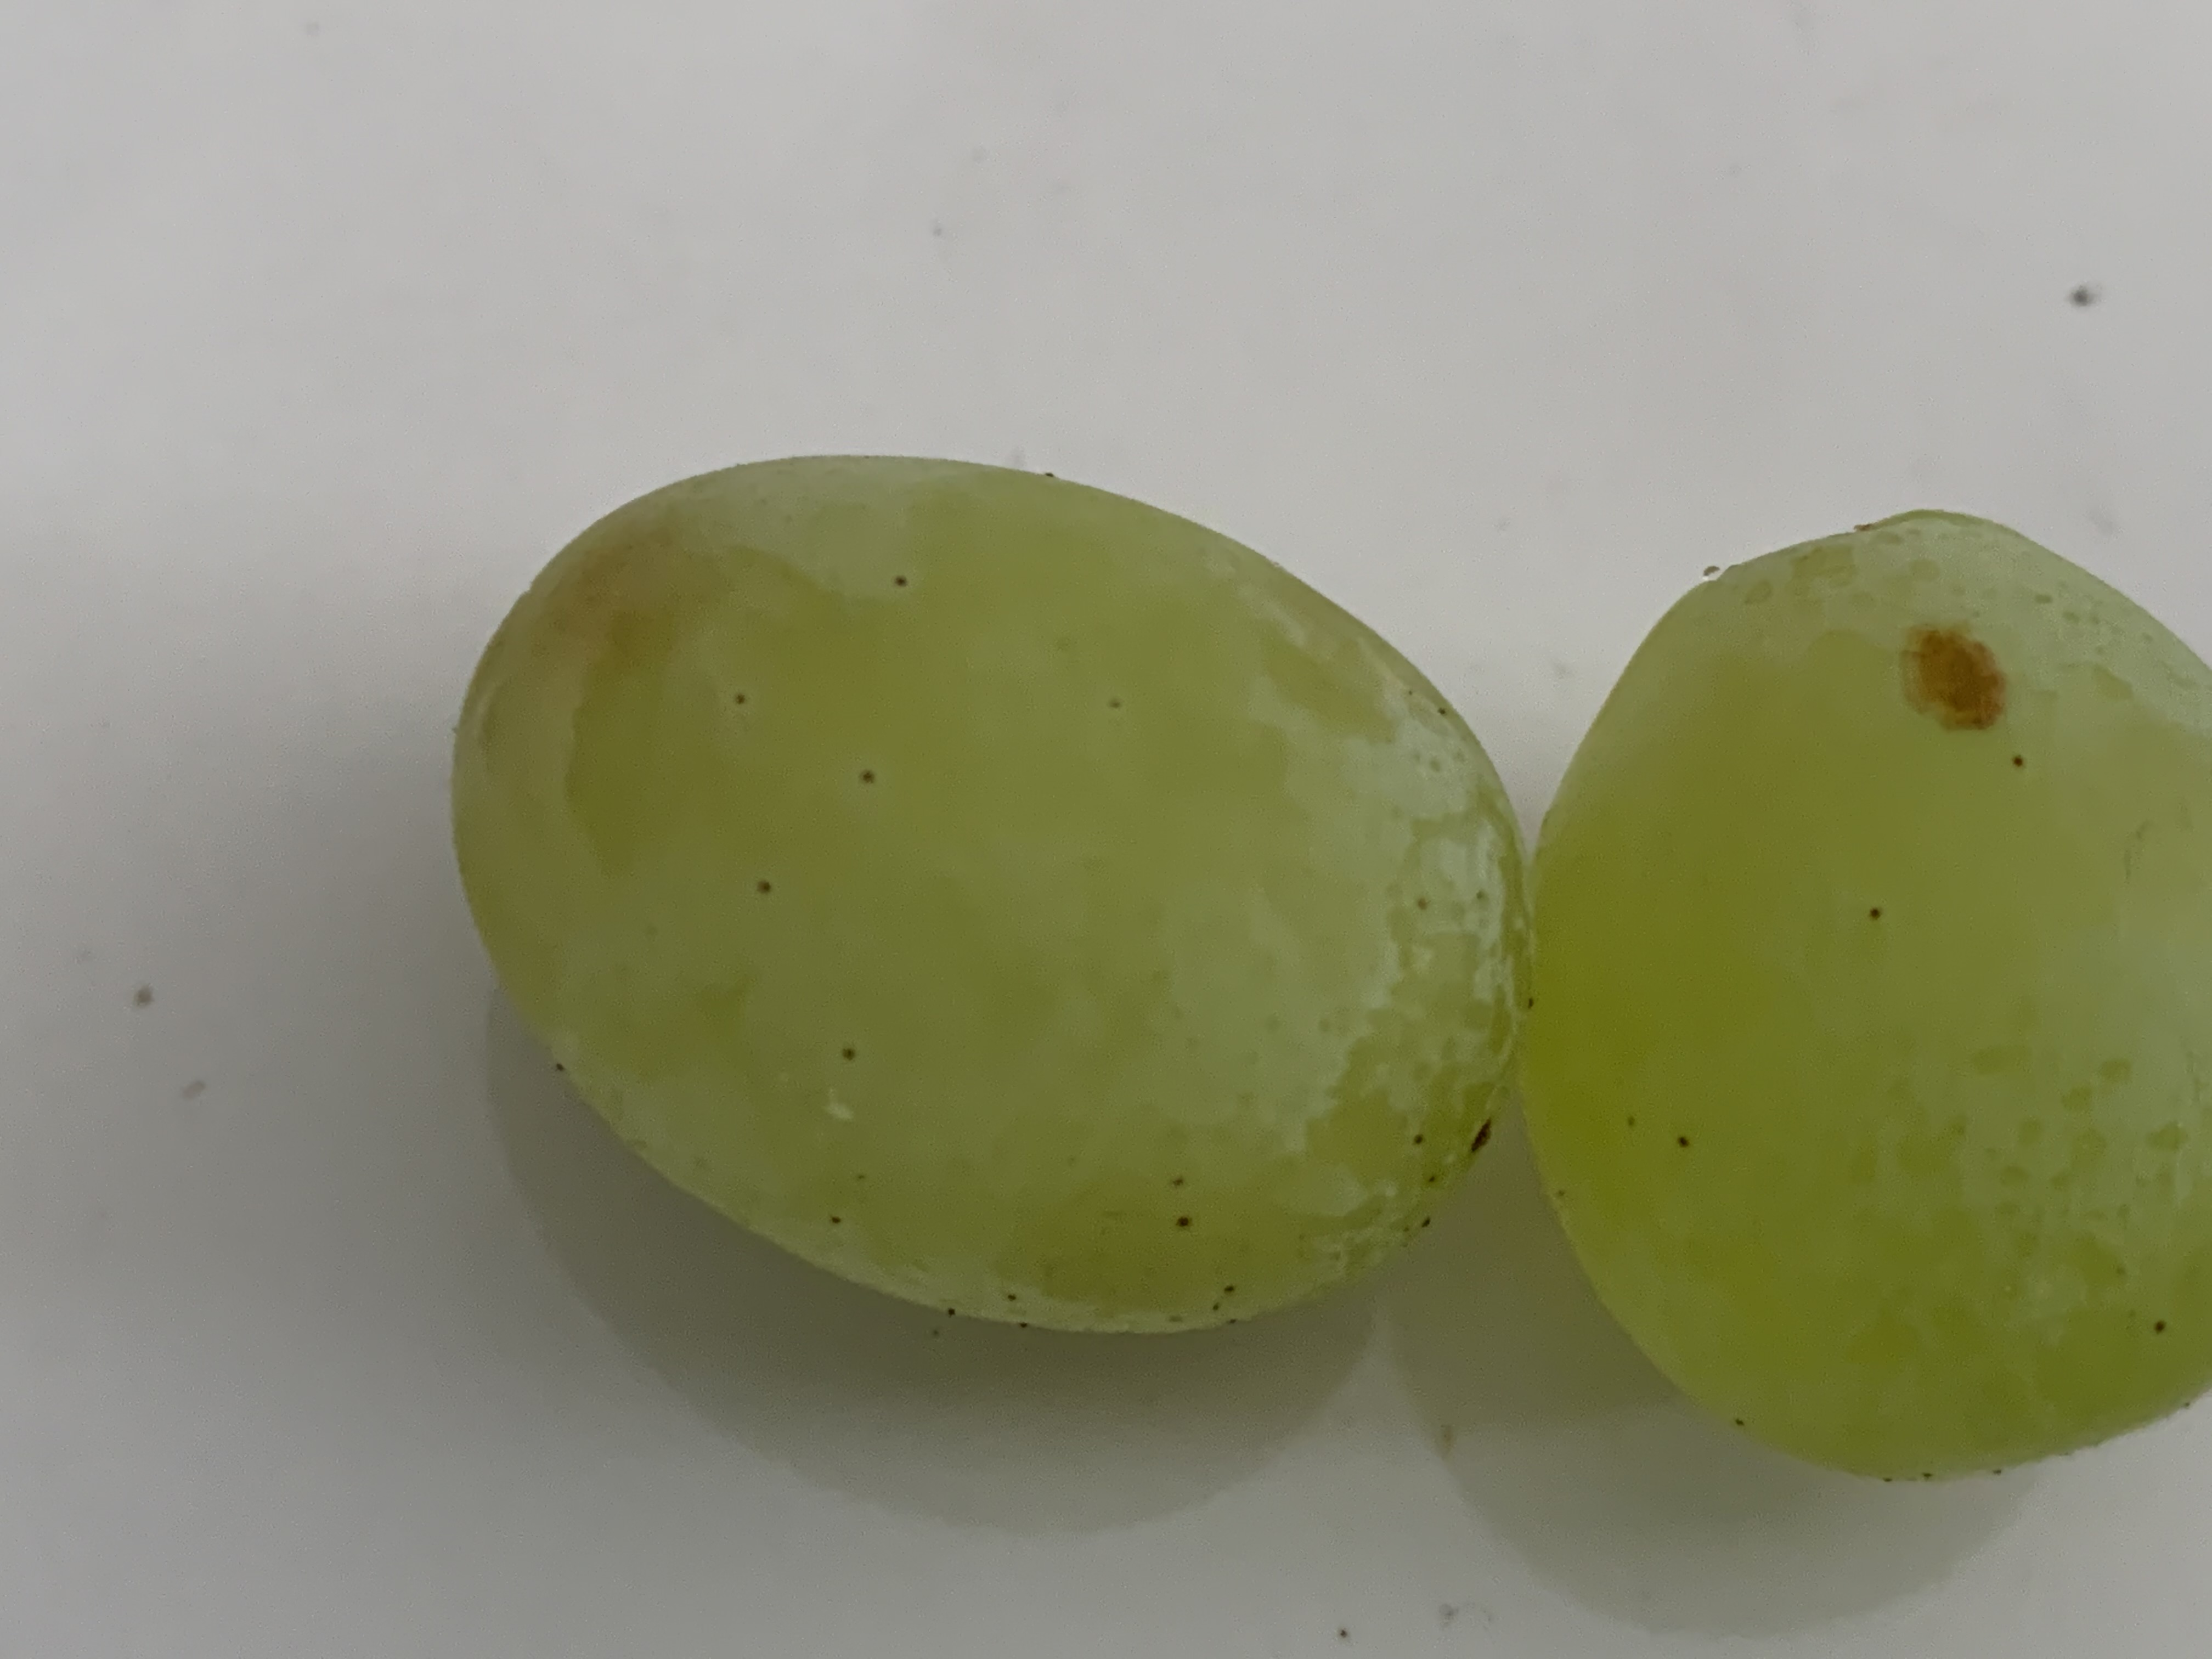grapes: (474, 450, 1533, 1319), (1545, 502, 2212, 1485)
